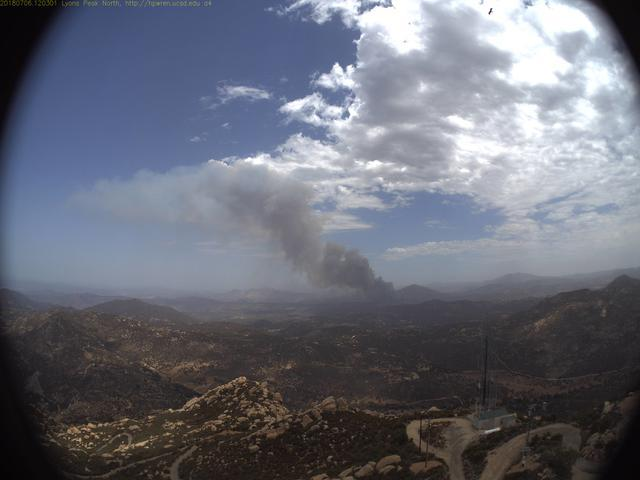smoke: (71, 158, 407, 310)
